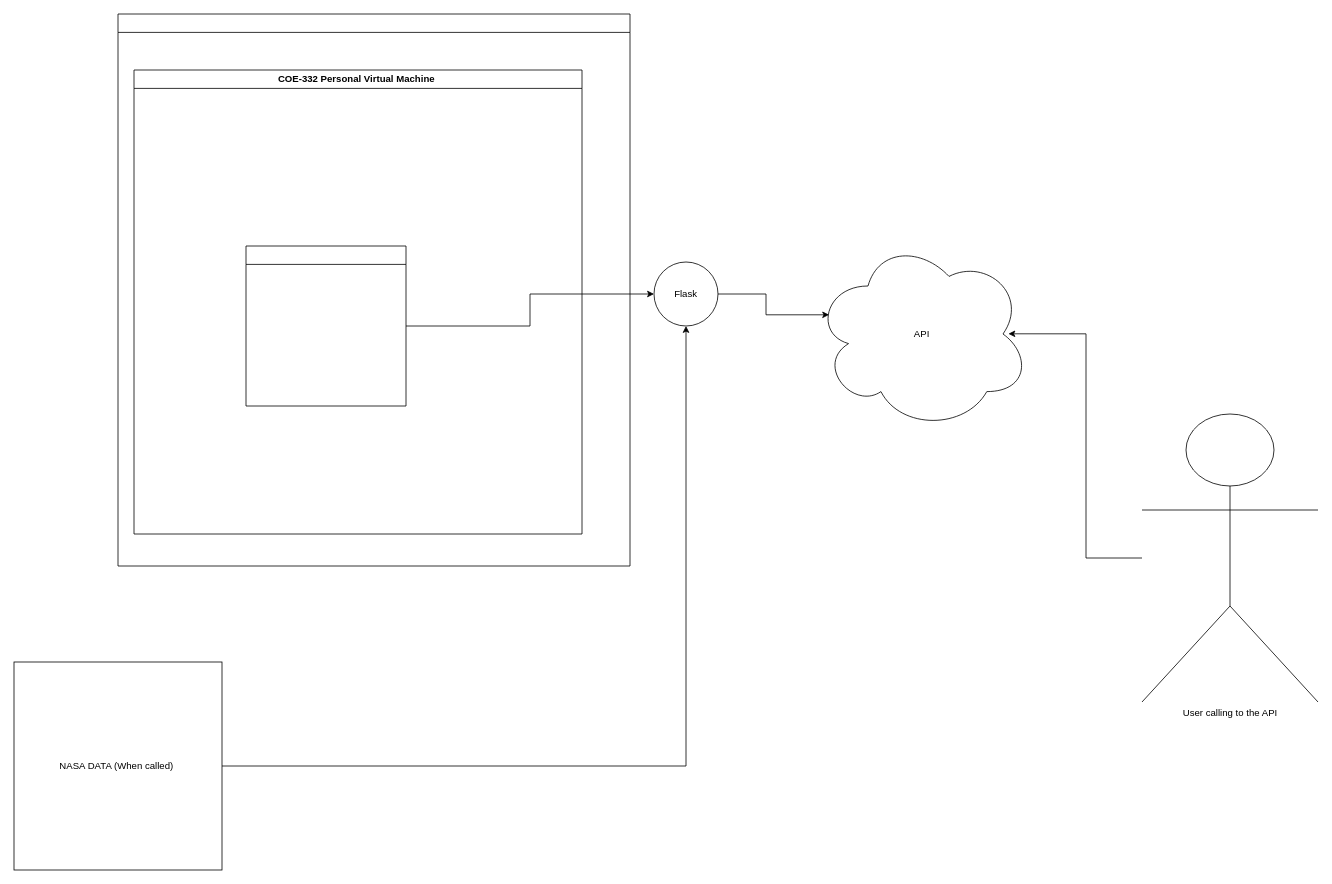
The diagram is 1332 pixels wide and 884 high, and some of its shapes have lost their labels. Each missing label, with the box of its shape:
DockerFIle: (245, 245, 406, 406)
TACC: (117, 13, 630, 566)
